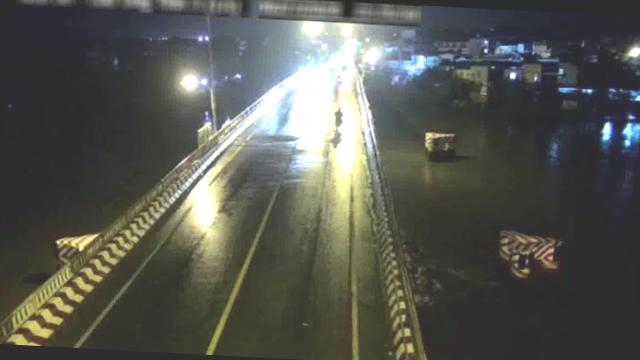Bike: (330, 103, 347, 133)
